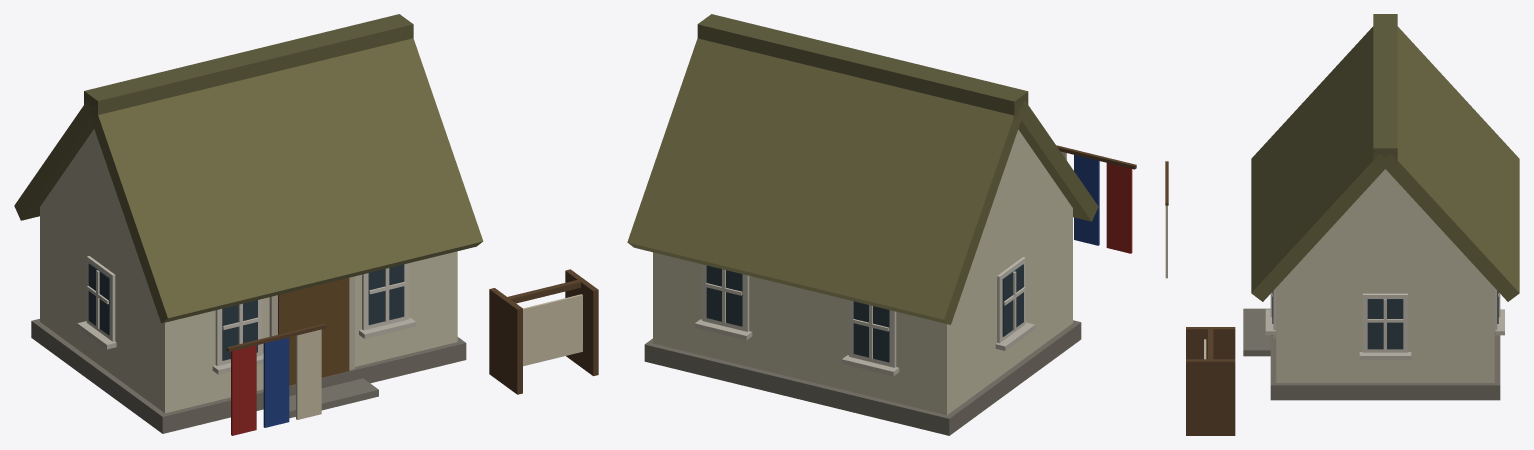
The model's file is procedural_silk_weaver@3.glb.
3 views of the same model, side by side, from view 1: azimuth 30°, elevation 25°; view 2: azimuth 150°, elevation 25°; view 3: azimuth 270°, elevation 25° (orthographic). The views are drawn at different scales.
Parts seen in each view (by area): view 1: part_0; view 2: part_0; view 3: part_0.
Part boxes in pixels (x1,y1,x2,y2): part_0: (14, 14, 598, 435); part_0: (627, 14, 1136, 435); part_0: (1165, 14, 1519, 435).
Bounding box in the file's own units: 7.26 × 5.14 × 6.49.
